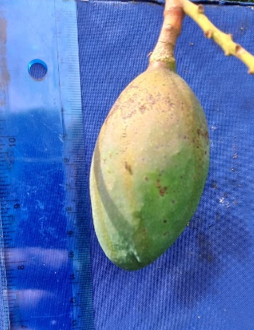Mango-Antracnosis: (89, 0, 253, 269)
